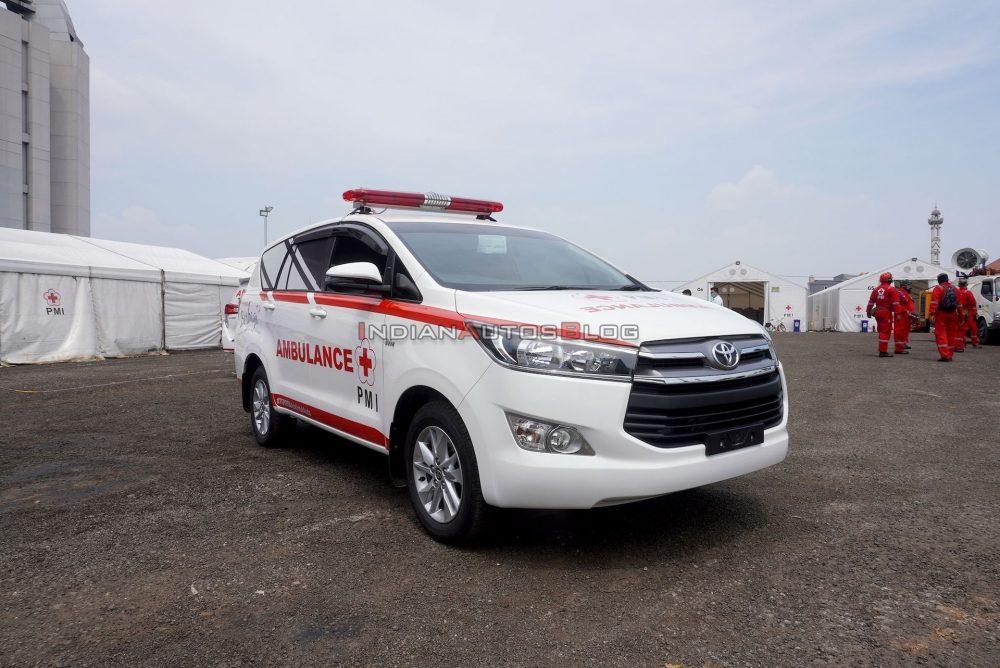Emergency-Vehicles: (233, 184, 786, 529)
